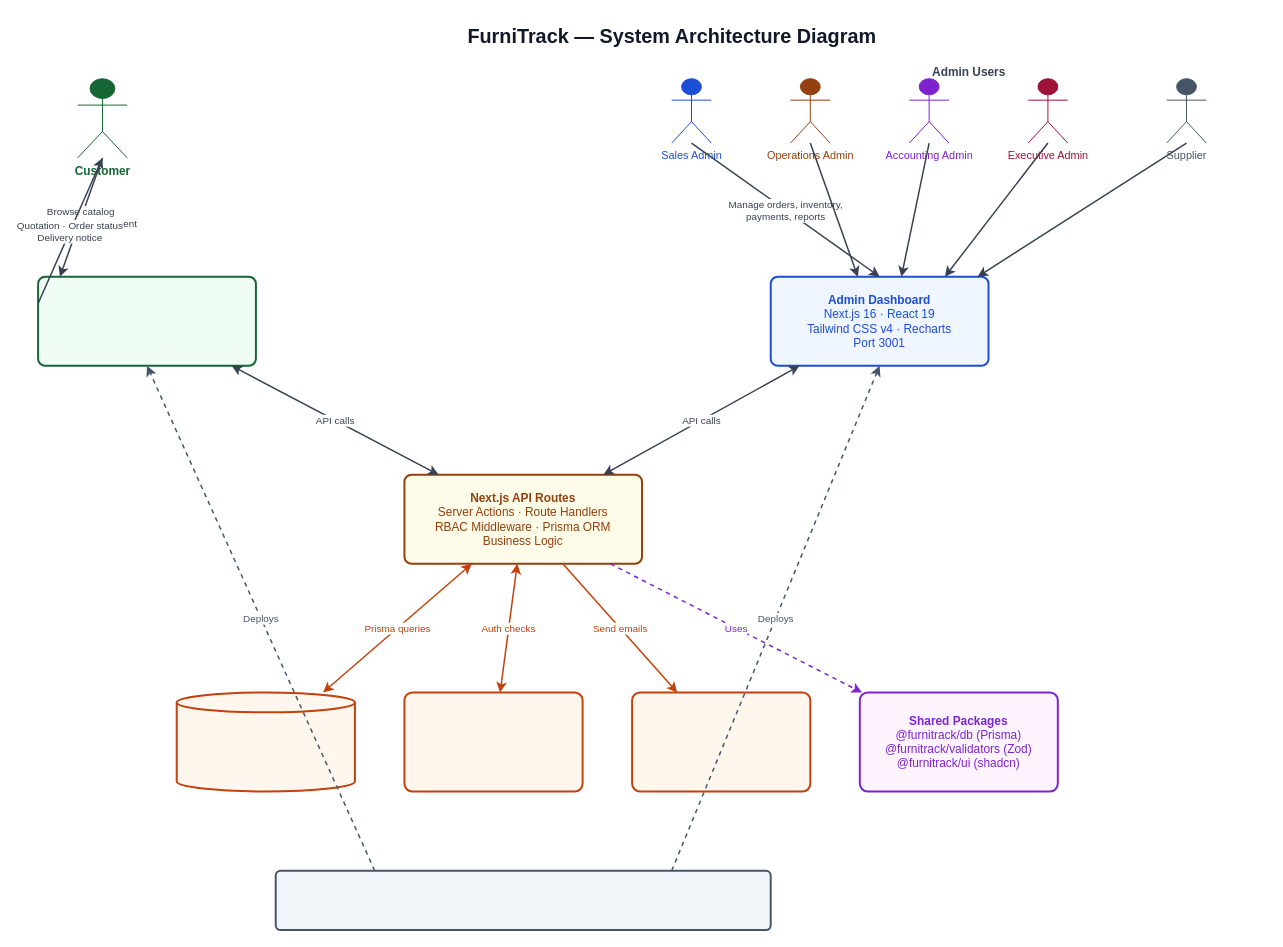
Some shapes in this 1283 by 947 pixel diagram are drawn without their labels. The shapes that lost their labels are listed below. From the top down, each one's centre as x and y in pixels, then its label:
the point at 146,320: Storefront Next.js 16 · React 19 Tailwind CSS v4 Port 3000
the point at 265,741: Neon PostgreSQL 17 24 Tables · Branching aws-ap-southeast-1
the point at 493,741: Neon Auth Better Auth Session Management Role Verification
the point at 721,741: Resend Transactional Email Password Reset Notifications
the point at 522,900: Vercel — Hosts & Deploys both apps Turborepo · pnpm workspaces · Node.js ≥ 20
